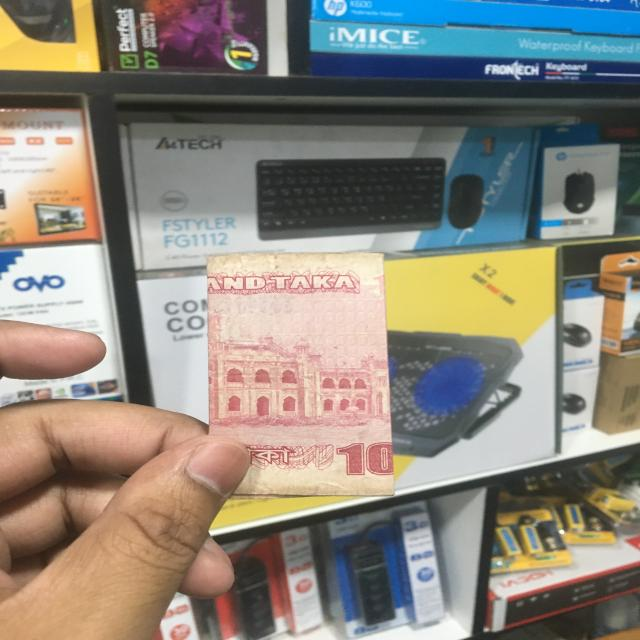Taka: (200, 252, 400, 496)
